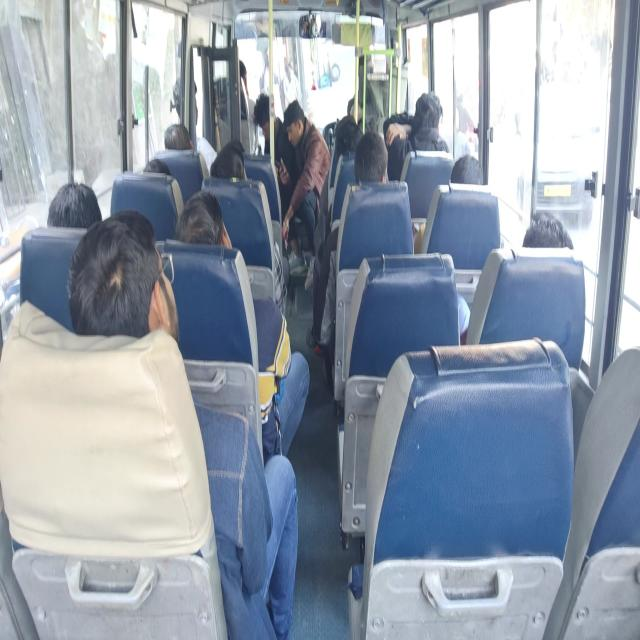person: (92, 222, 180, 356), (179, 181, 231, 259), (44, 171, 95, 247), (522, 205, 574, 259), (442, 150, 490, 200), (355, 133, 385, 191), (216, 140, 248, 189), (173, 76, 202, 126), (141, 147, 172, 189), (160, 119, 196, 152), (418, 95, 444, 136), (232, 56, 254, 100), (339, 112, 359, 156), (286, 108, 307, 143), (254, 101, 274, 136)
